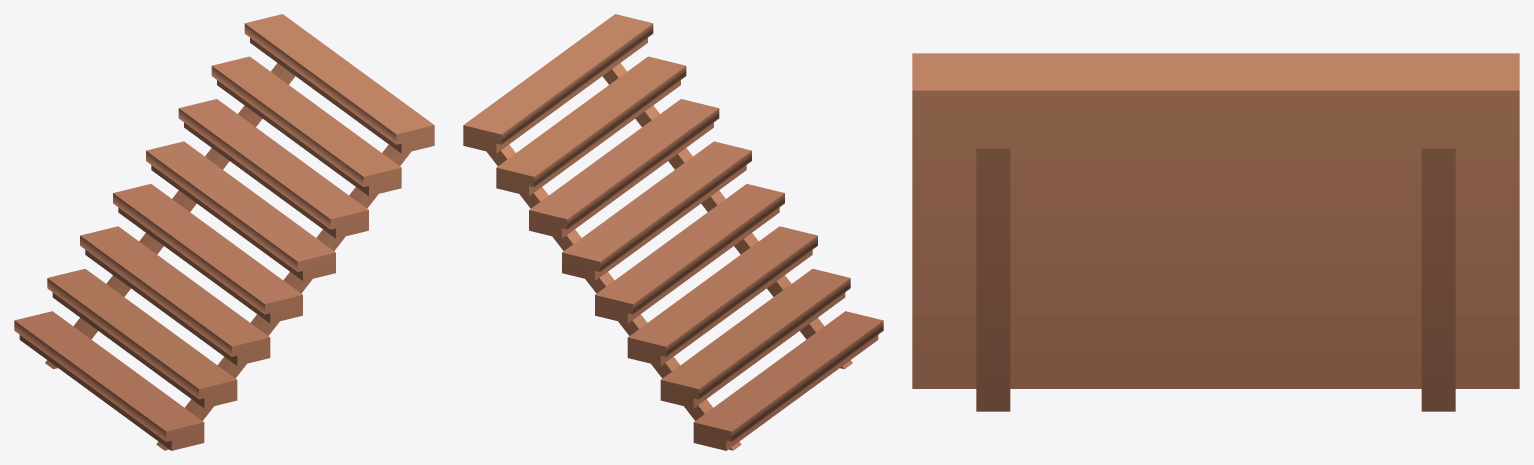
File: stairs-wide-wood.glb
3 renders of one model, left to right at view 1: azimuth 30°, elevation 25°; view 2: azimuth 150°, elevation 25°; view 3: azimuth 270°, elevation 25°, orthographic. The views are drawn at different scales.
Parts seen in each view (by area): view 1: stairs-wide-wood; view 2: stairs-wide-wood; view 3: stairs-wide-wood.
Part boxes in pixels (x1=…): stairs-wide-wood: x1=14, y1=14, x2=434, y2=450; stairs-wide-wood: x1=463, y1=14, x2=883, y2=450; stairs-wide-wood: x1=912, y1=53, x2=1519, y2=411.
Size of the model in its own units: 1.02 by 1 by 1.
1 material, 1 textured.
